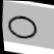no answer: (4, 7, 42, 43)
